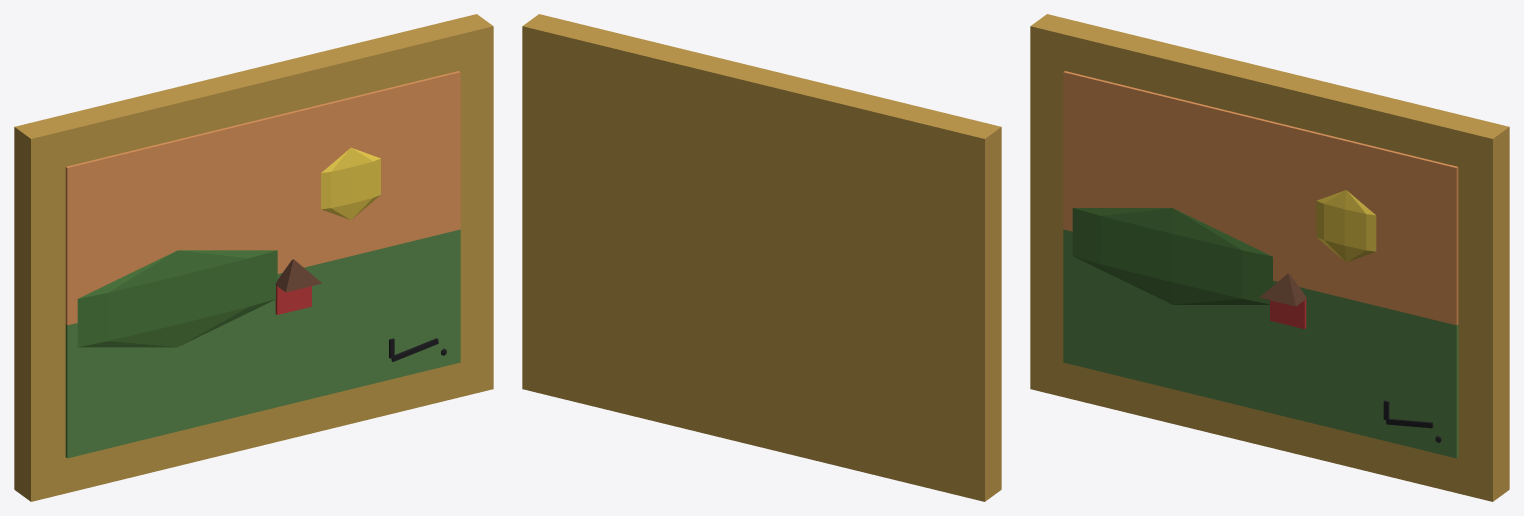
File: painting_copy.glb
3 renders of one model, left to right at view 1: azimuth 30°, elevation 25°; view 2: azimuth 150°, elevation 25°; view 3: azimuth 330°, elevation 25°, orthographic.
Parts seen in each view (by area): view 1: frame_frame_gold, sky_paint_sky, hills_paint_hills, hill_paint_hill, sun_paint_sun, roof_paint_roof, house_paint_house; view 2: frame_frame_gold; view 3: frame_frame_gold, sky_paint_sky, hills_paint_hills, hill_paint_hill, sun_paint_sun, roof_paint_roof, house_paint_house.
Boxes of the visible parts, x1,y1,x2,y2 form: frame_frame_gold: (14, 14, 493, 501); sky_paint_sky: (65, 71, 460, 325); hills_paint_hills: (65, 229, 460, 458); hill_paint_hill: (77, 250, 277, 347); sun_paint_sun: (321, 147, 380, 219); roof_paint_roof: (275, 259, 322, 292); house_paint_house: (275, 285, 311, 314); frame_frame_gold: (522, 14, 1001, 501); frame_frame_gold: (1030, 14, 1509, 501); sky_paint_sky: (1063, 71, 1458, 325); hills_paint_hills: (1063, 229, 1458, 458); hill_paint_hill: (1072, 208, 1272, 304); sun_paint_sun: (1316, 190, 1376, 262); roof_paint_roof: (1259, 273, 1306, 306); house_paint_house: (1270, 299, 1306, 328).
Bounding box in the file's own units: 0.8 × 0.6 × 0.0888.
